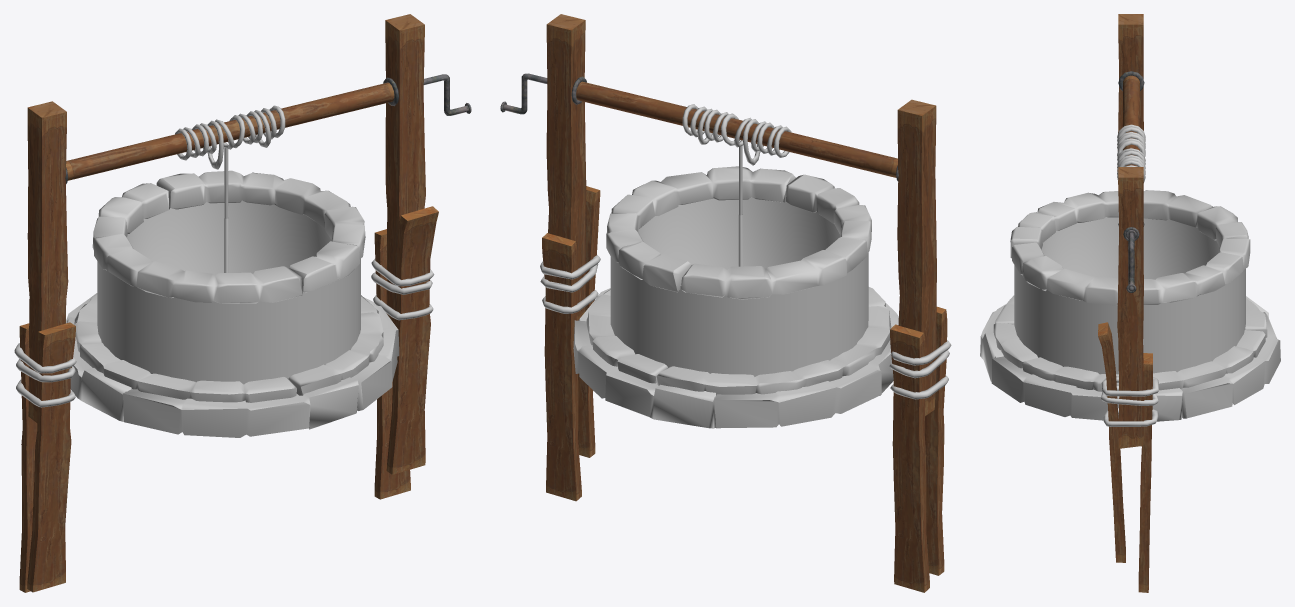
Rendered from SM_Farm_Well_02.fbx.
The picture shows the model from 3 angles, left to right: view 1: azimuth 30°, elevation 25°; view 2: azimuth 150°, elevation 25°; view 3: azimuth 270°, elevation 25°; orthographic projection. The views are drawn at different scales.
Visible parts, largest first — view 1: SM_Farm_Well_02_LOD0; view 2: SM_Farm_Well_02_LOD0; view 3: SM_Farm_Well_02_LOD0.
Part boxes in pixels (x1,y1,x2,y2): SM_Farm_Well_02_LOD0: [14, 14, 471, 592]; SM_Farm_Well_02_LOD0: [500, 14, 951, 592]; SM_Farm_Well_02_LOD0: [980, 14, 1280, 592].
Size of what is drawn, in the model's own units: 340 by 352 by 226.
